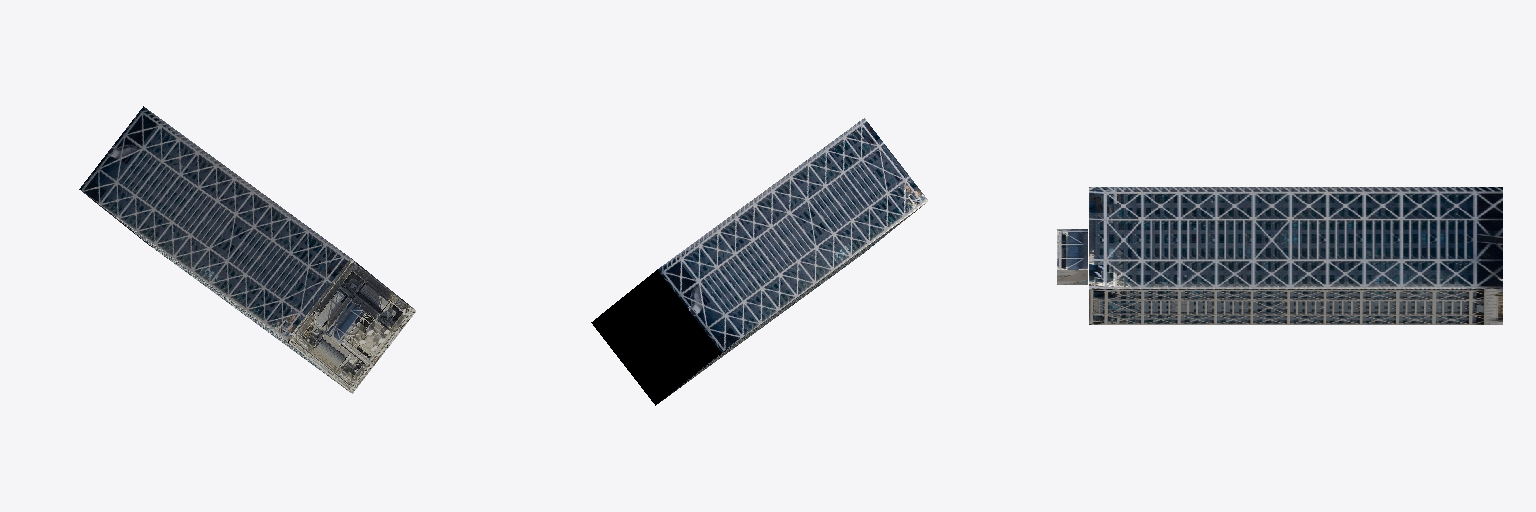
3 views of the same model, side by side, from view 1: azimuth 30°, elevation 25°; view 2: azimuth 150°, elevation 25°; view 3: azimuth 270°, elevation 25° (orthographic).
Parts seen in each view (by area): view 1: skp860; view 2: skp860; view 3: skp860.
Part boxes in pixels (left/top/right/bottom): skp860: left=79, top=106, right=415, bottom=393; skp860: left=591, top=118, right=927, bottom=405; skp860: left=1057, top=187, right=1502, bottom=324.
Bounding box in the file's own units: 76371 × 76371 × 225855.
2 materials, 2 textured.